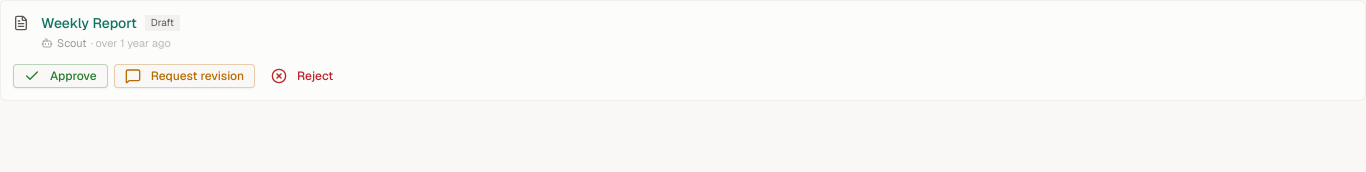
Scenario: TaskDeliverables › shows reject input when Reject is clicked
The width and height of the screenshot is (1366, 172).
Click the button "Reject" at (302, 76), box [261, 64, 343, 88]
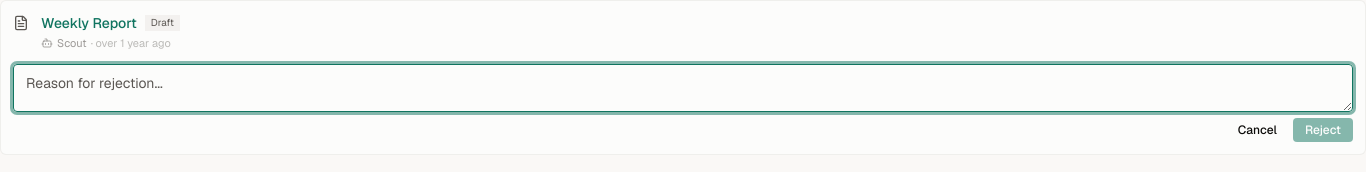
Expected: the text box with placeholder "Reason for rejection..." is shown, [13, 64, 1353, 112]
